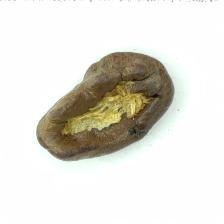NG: (47, 74, 157, 148)
